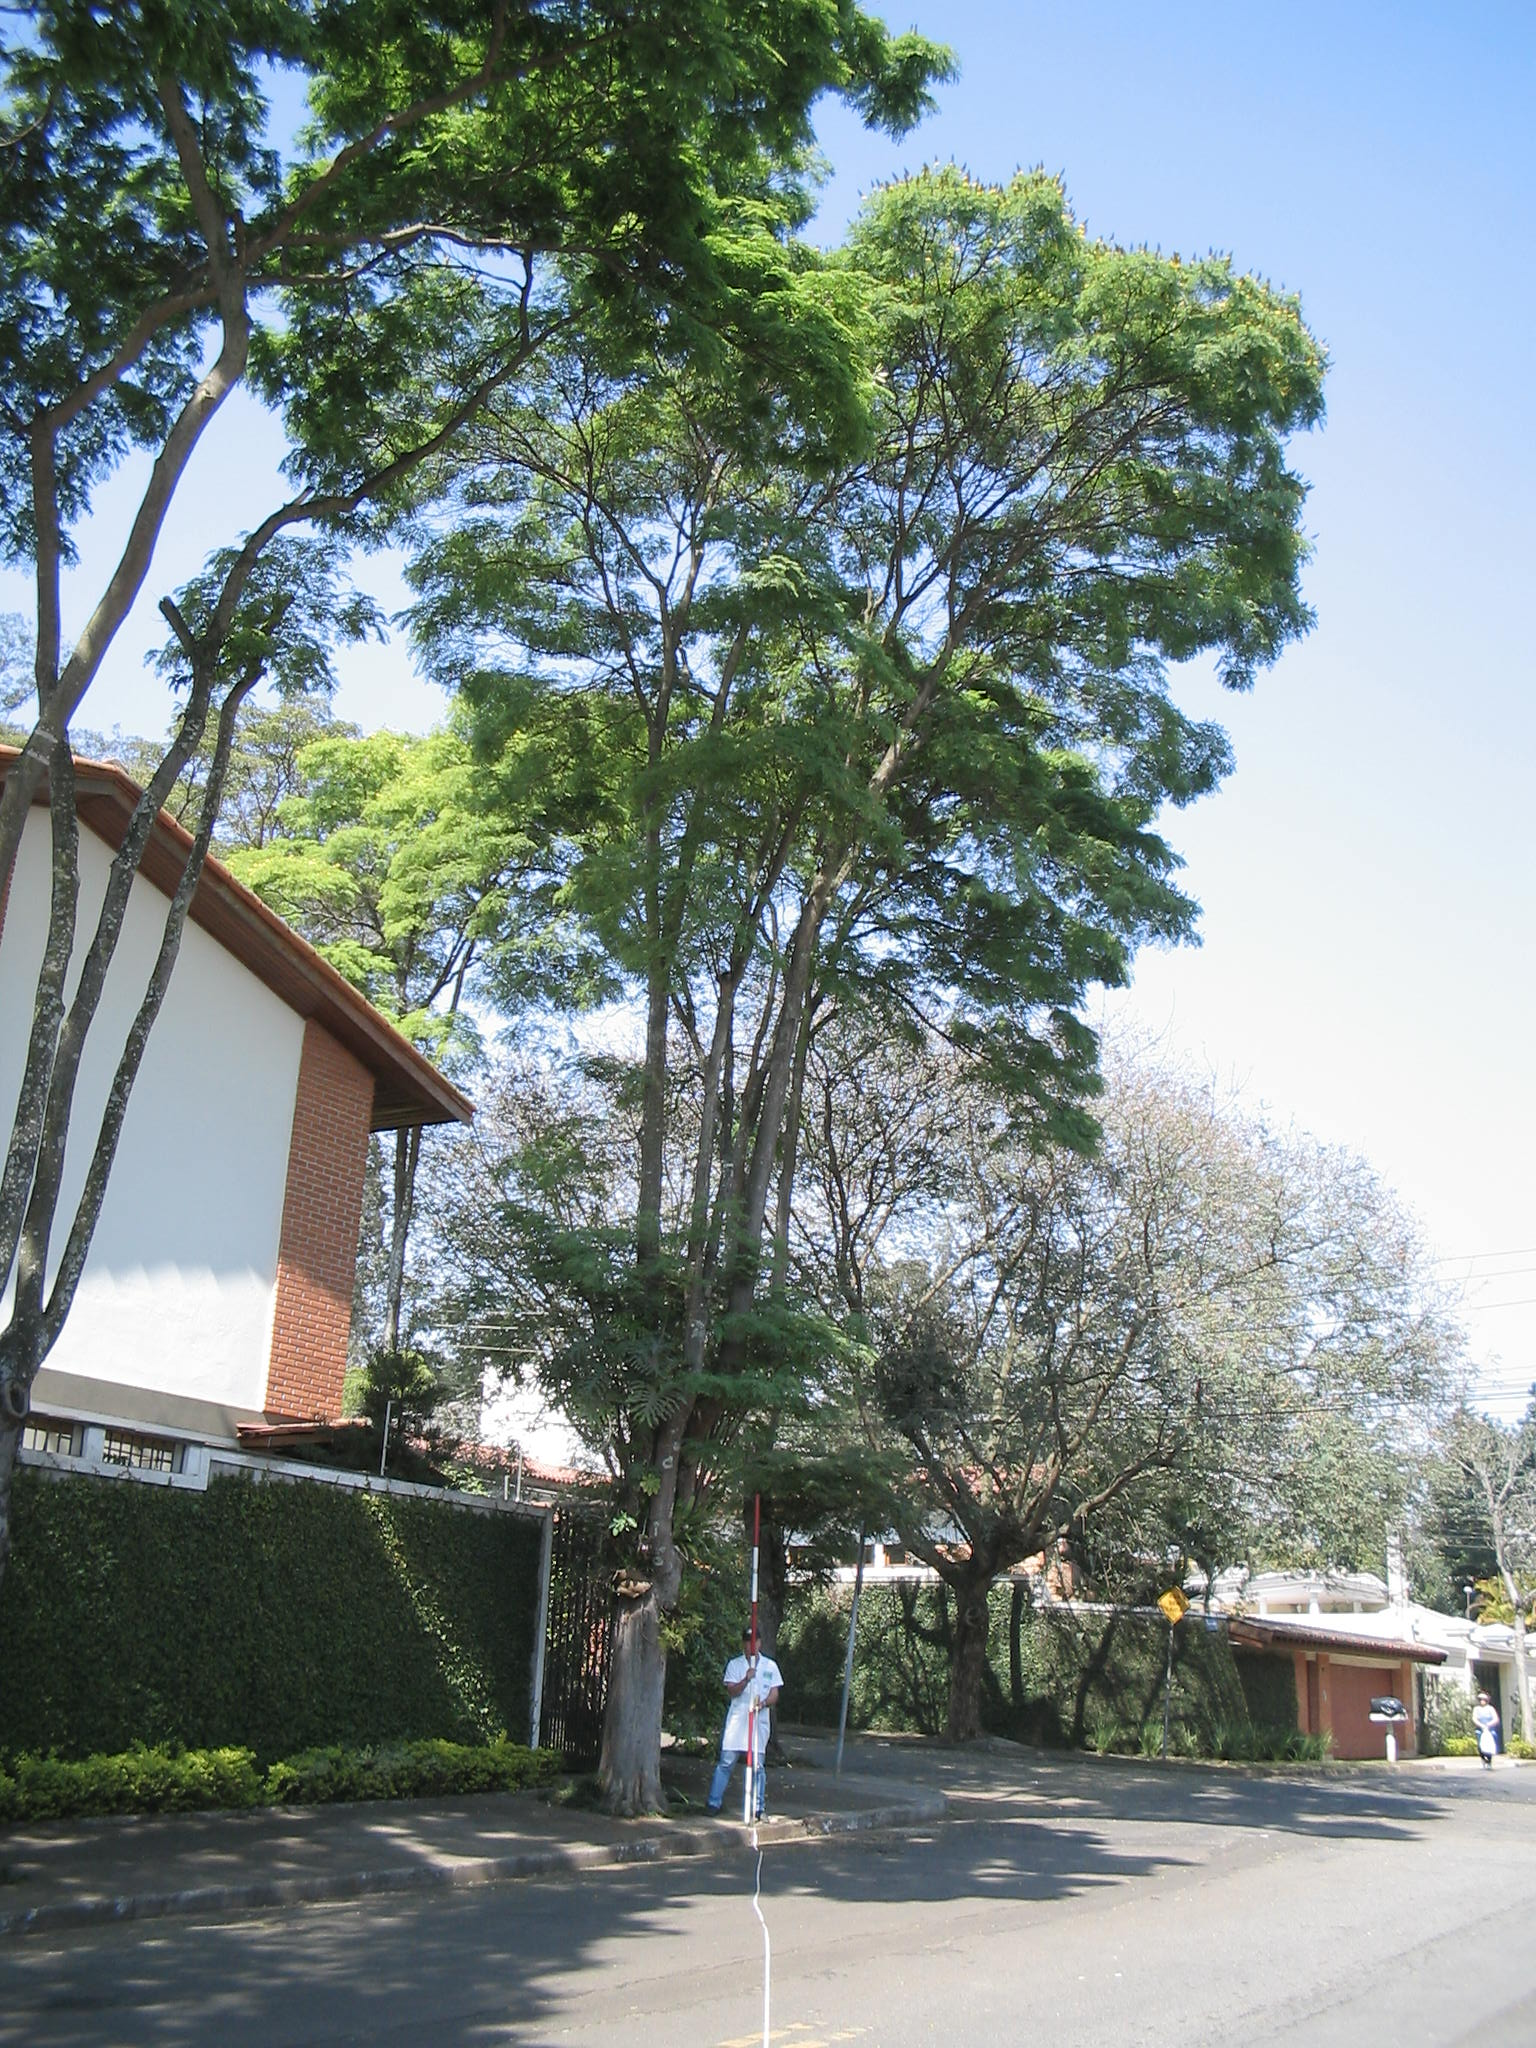crown: (382, 166, 1325, 1208)
stem: (549, 1500, 712, 1832), (916, 1584, 1012, 1742)
stick: (715, 1492, 786, 1824)
tree: (373, 163, 1333, 1832), (800, 1050, 1491, 1750)
